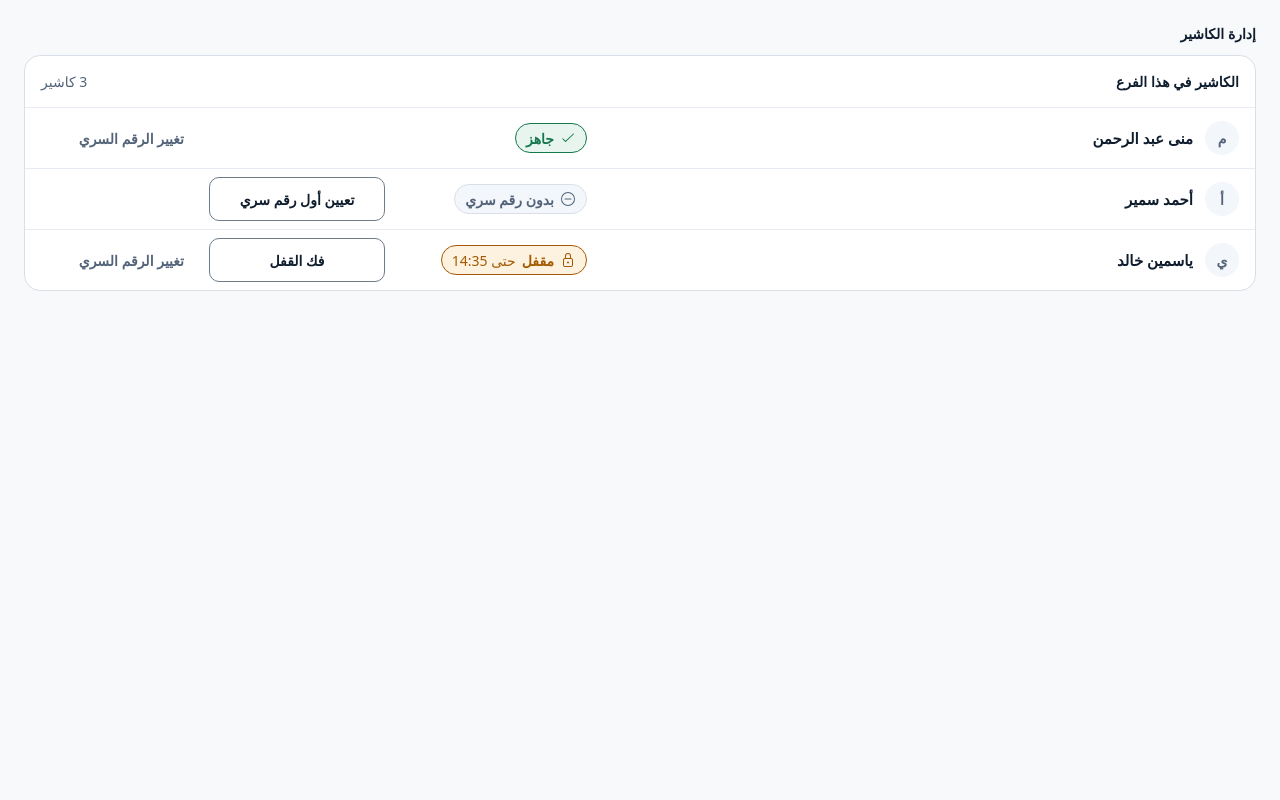
RT-424 CashiersScreen — M6 session expired (RT-358) › after a re-auth, sends the SAME PIN again exactly once and shows M-K2
Click the button "تعيين أول رقم سري" at (297, 199), box [209,177,385,221]
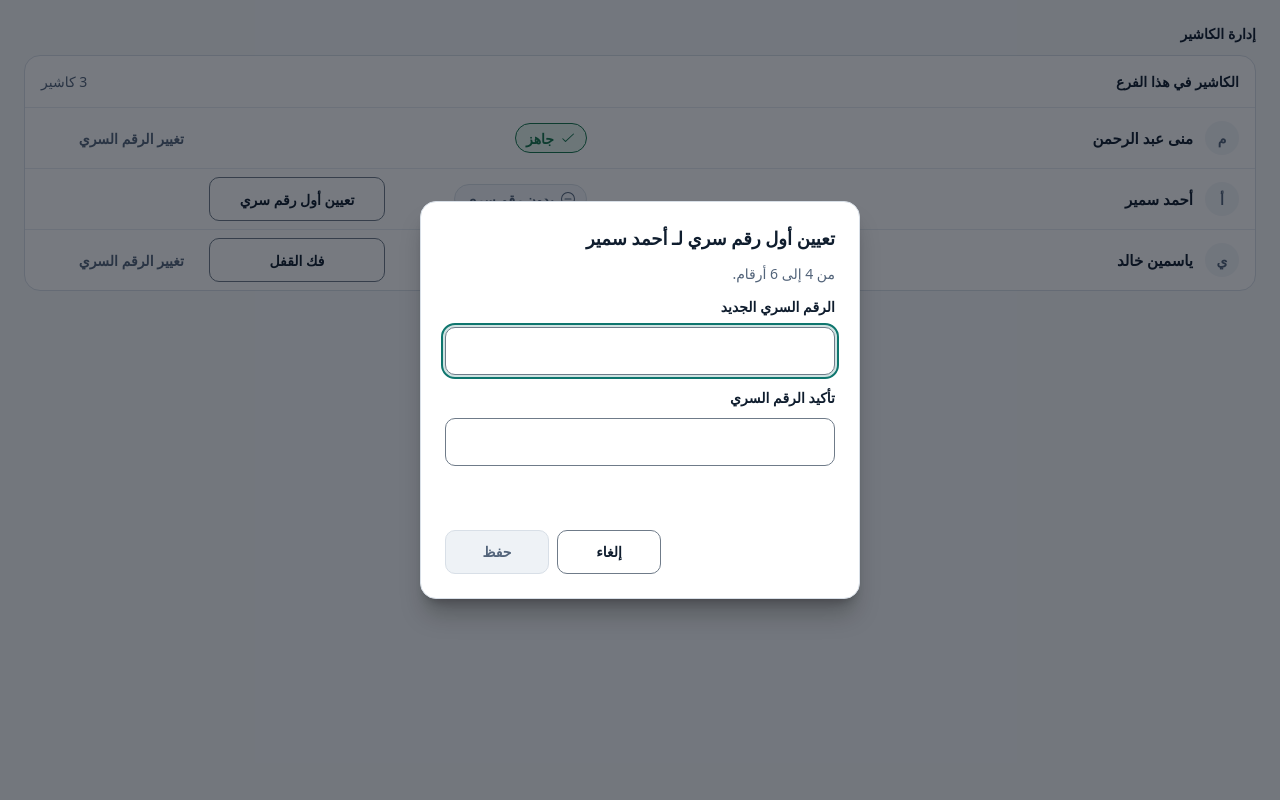
Type "4729" into the password field labelled "الرقم السري الجديد" at (640, 351), box [445,327,835,375]
Type "4729" into the password field labelled "تأكيد الرقم السري" at (640, 442), box [445,418,835,466]
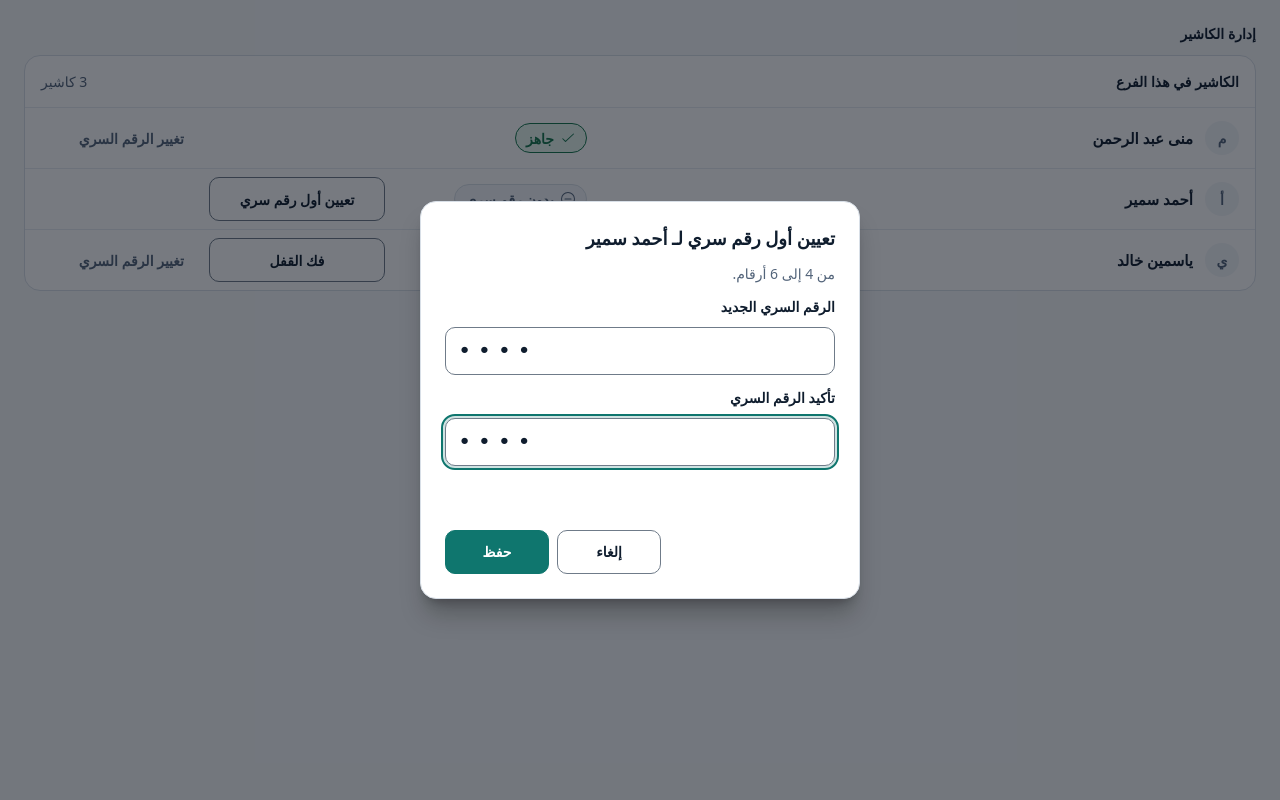
Click the button "حفظ" at (497, 552), box [445,530,549,574]
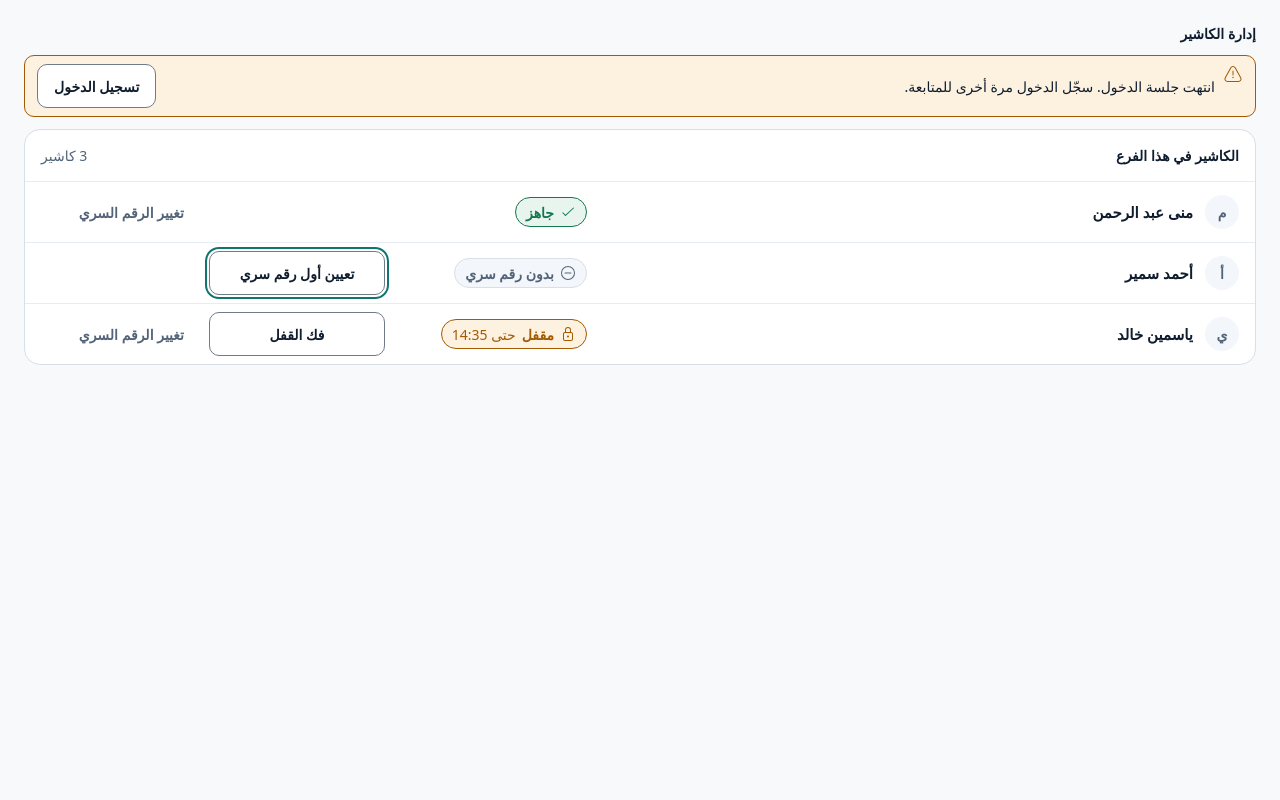
Click the button "تسجيل الدخول" at (97, 86), box [37,64,156,108]
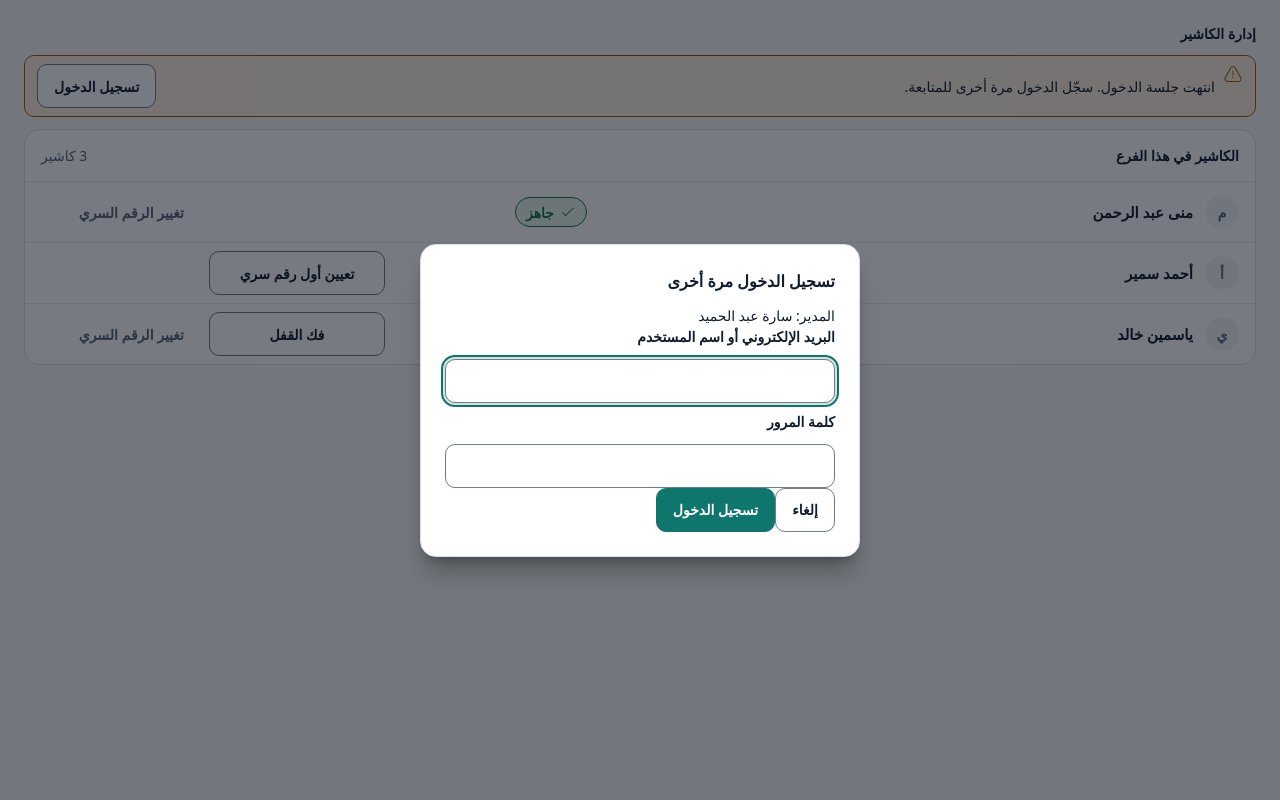
Type "mgr@example.test" into the field with test id "reauth-identifier" at (640, 380), box [445,358,835,402]
Type "pw" into the password field with test id "reauth-password" at (640, 466), box [445,444,835,488]
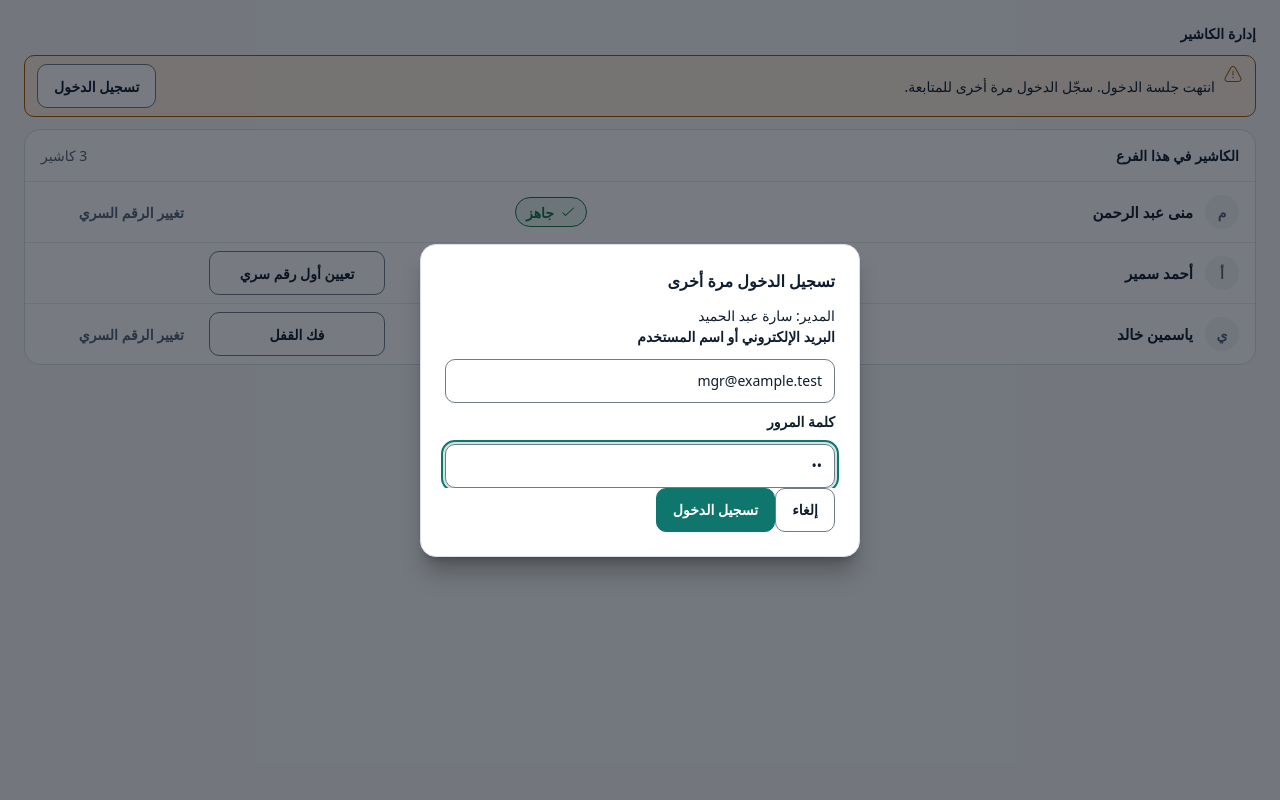
Click the button "تسجيل الدخول" at (716, 510), box [656,488,775,532]
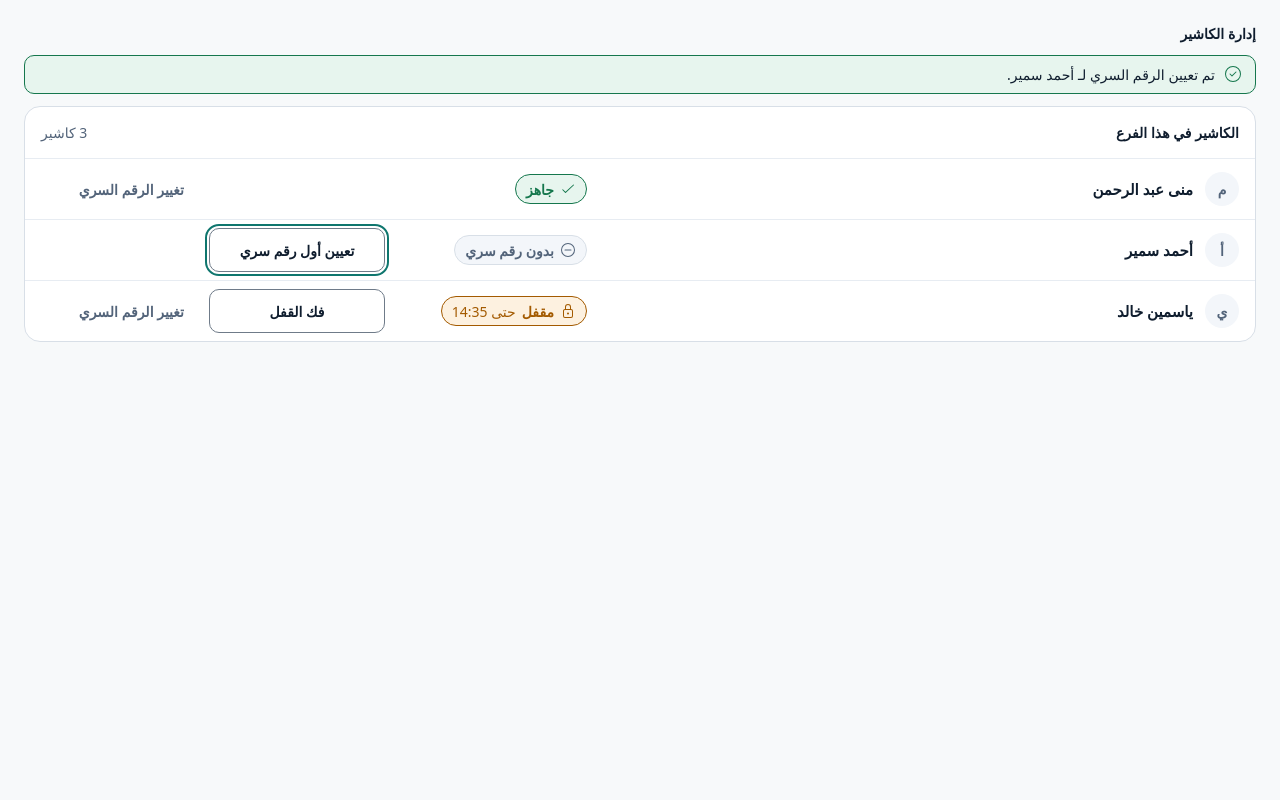
Result: the element with test id "reauth-required" is gone
